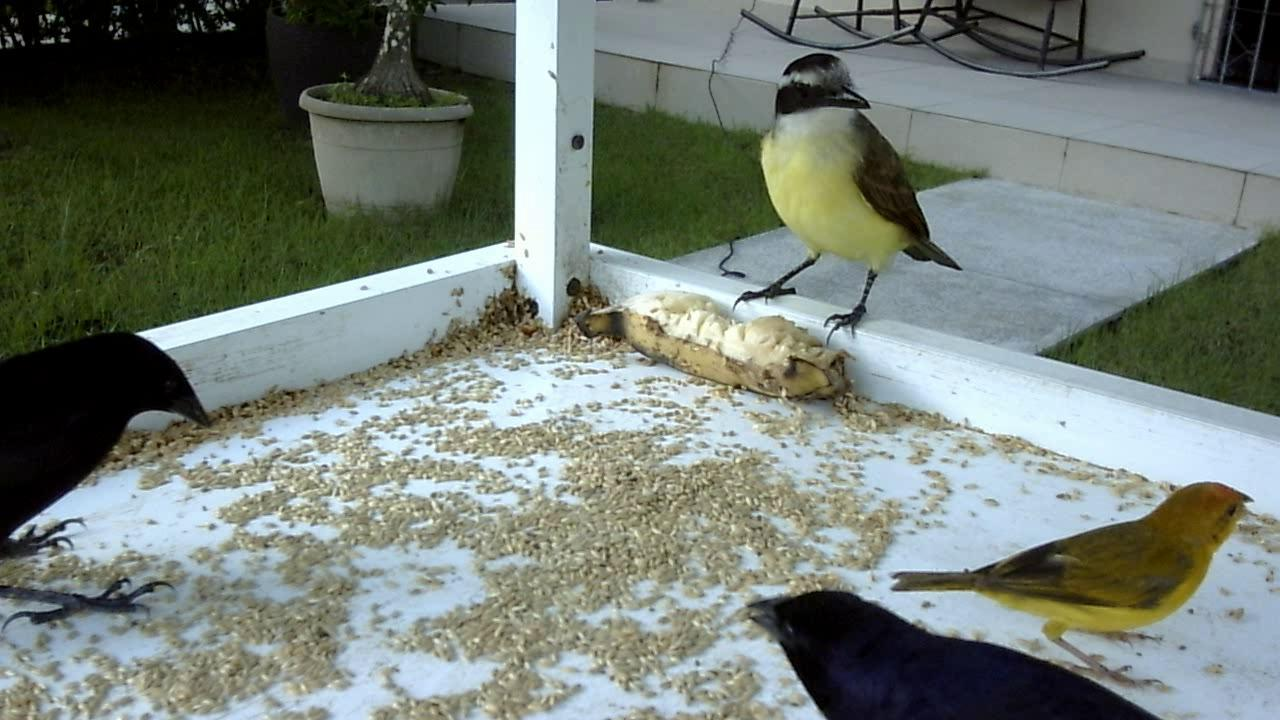bem_te_vi: (704, 39, 980, 360)
canario_do_amazonas: (884, 472, 1257, 677)
chupim: (1, 318, 219, 656), (737, 584, 1160, 716)
